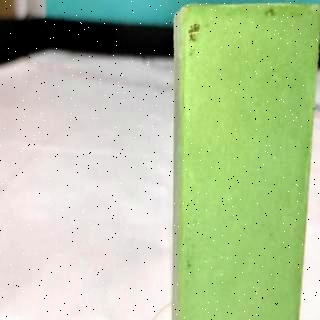greenbox: (174, 4, 320, 320)
